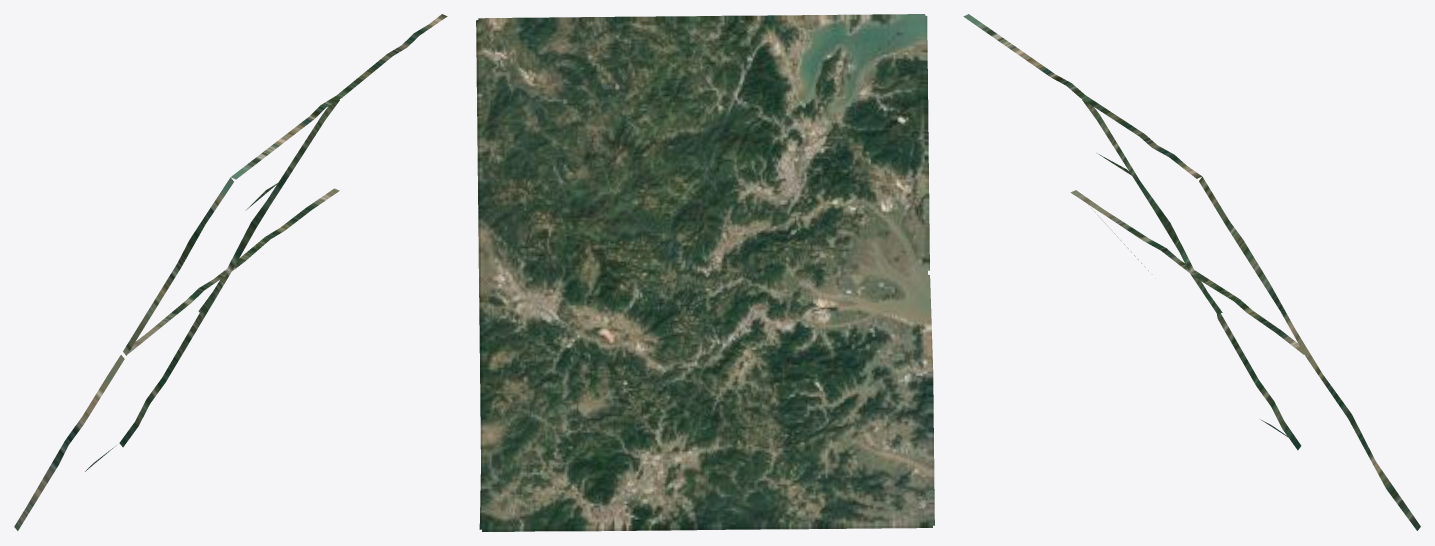
3 views of the same model, side by side, from view 1: azimuth 30°, elevation 25°; view 2: azimuth 150°, elevation 25°; view 3: azimuth 270°, elevation 25° (orthographic). The views are drawn at different scales.
Size of the model in its own units: 79289 by 69241 by 69679.
1 material, 1 textured.
